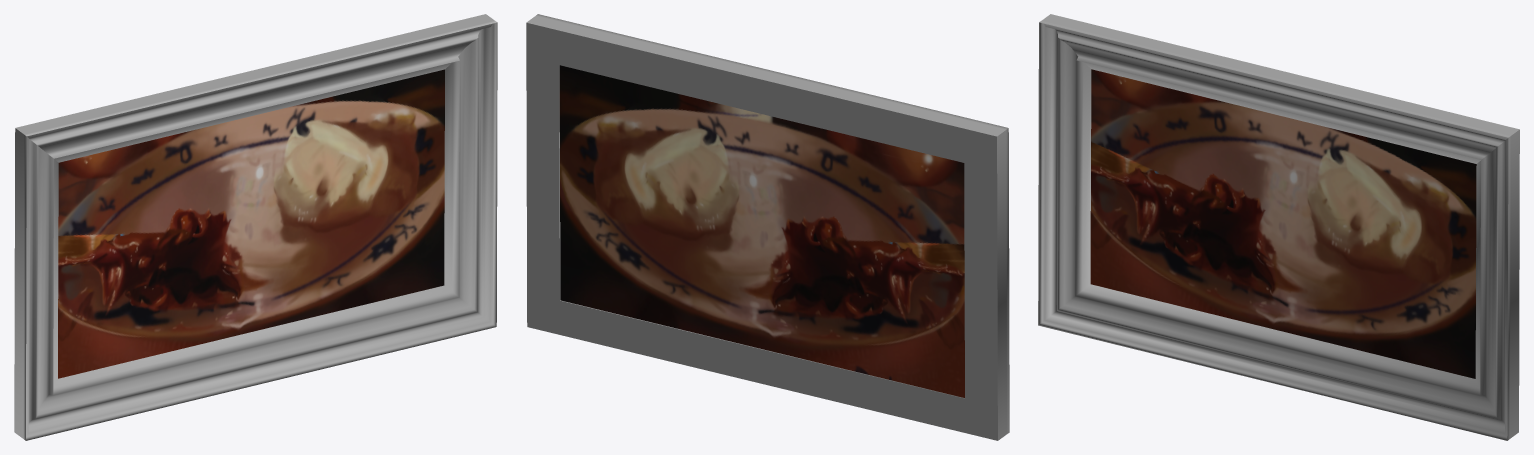
Rendered from peanutbutter.fbx.
3 views of the same model, side by side, from view 1: azimuth 30°, elevation 25°; view 2: azimuth 150°, elevation 25°; view 3: azimuth 330°, elevation 25° (orthographic).
Visible parts, largest first — view 1: pasted__pPlane3, pasted__loftedSurface3; view 2: pasted__pPlane3, pasted__loftedSurface3; view 3: pasted__pPlane3, pasted__loftedSurface3.
Part boxes in pixels (x1,y1,x2,y2): pasted__pPlane3: (58, 69, 444, 378); pasted__loftedSurface3: (14, 14, 497, 440); pasted__pPlane3: (559, 65, 964, 397); pasted__loftedSurface3: (526, 14, 1009, 440); pasted__pPlane3: (1090, 69, 1476, 378); pasted__loftedSurface3: (1038, 14, 1519, 440).
Size of the model in its own units: 33.17 by 20.51 by 1.42.
